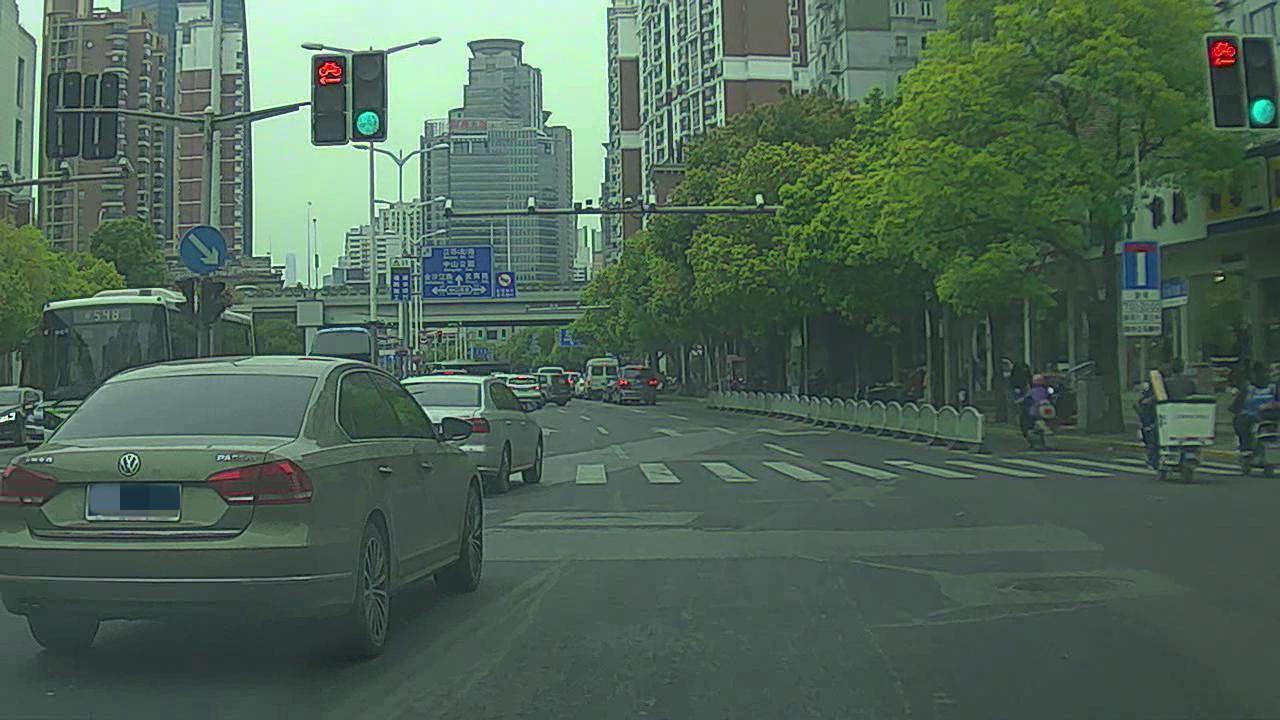traffic_light: (1205, 34, 1247, 129), (312, 56, 352, 150), (353, 48, 392, 140), (1244, 40, 1280, 125)
